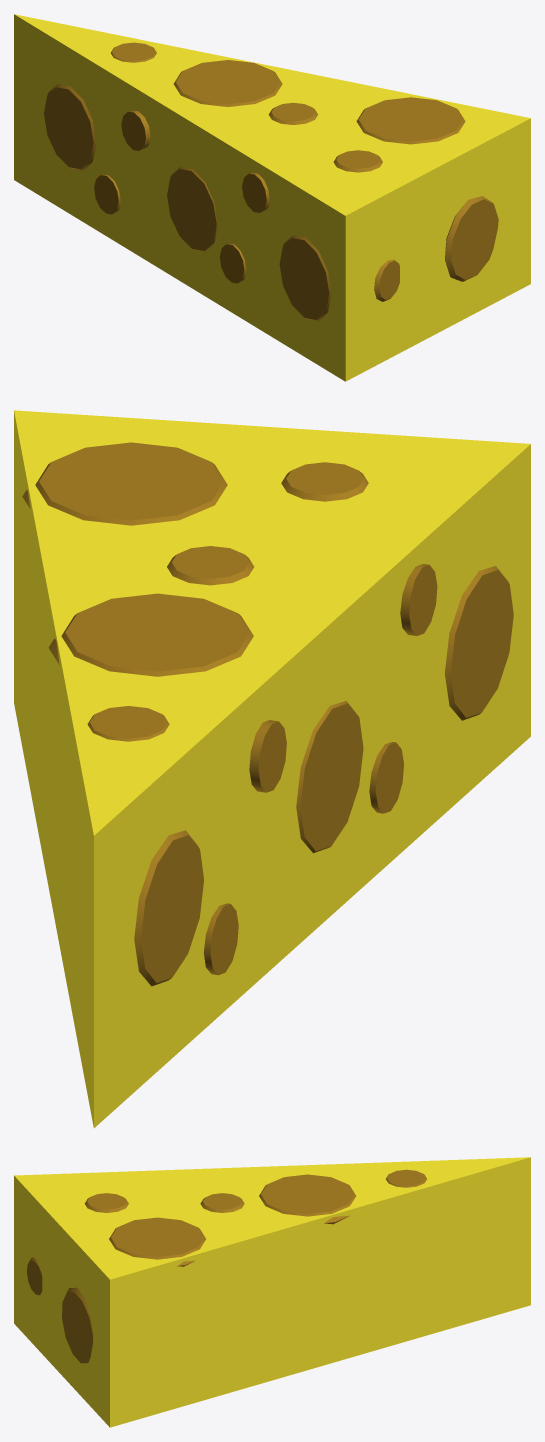
Rendered from cheese.fbx.
3 views of the same model, one above another, from view 1: azimuth 30°, elevation 25°; view 2: azimuth 150°, elevation 25°; view 3: azimuth 270°, elevation 25° (orthographic). The views are drawn at different scales.
Visible parts, largest first — view 1: Prism001, ChamferCyl008, ChamferCyl009, ChamferCyl013, ChamferCyl001, ChamferCyl005, ChamferCyl002, ChamferCyl003, ChamferCyl004, ChamferCyl012, ChamferCyl010, ChamferCyl014 (+3 smaller); view 2: Prism001, ChamferCyl009, ChamferCyl008, ChamferCyl001, ChamferCyl005, ChamferCyl002, ChamferCyl012, ChamferCyl010, ChamferCyl011, ChamferCyl003, ChamferCyl004, ChamferCyl006 (+1 smaller); view 3: Prism001, ChamferCyl009, ChamferCyl008, ChamferCyl013, ChamferCyl010, ChamferCyl012, ChamferCyl011, ChamferCyl014.
Part boxes in pixels (x1,y1,x2,y2): Prism001: (14,14,530,381); ChamferCyl008: (356,97,465,144); ChamferCyl009: (173,60,282,106); ChamferCyl013: (445,196,498,281); ChamferCyl001: (44,84,96,170); ChamferCyl005: (279,235,331,320); ChamferCyl002: (167,167,217,251); ChamferCyl003: (121,110,150,150); ChamferCyl004: (242,172,269,212); ChamferCyl012: (333,150,382,172); ChamferCyl010: (268,102,318,124); ChamferCyl014: (374,259,399,301); Prism001: (14,410,530,1127); ChamferCyl009: (48,593,253,676); ChamferCyl008: (22,442,227,525); ChamferCyl001: (134,830,203,986); ChamferCyl005: (445,566,513,720); ChamferCyl002: (296,701,363,853); ChamferCyl012: (281,462,368,501); ChamferCyl010: (167,546,254,585); ChamferCyl011: (87,706,169,741); ChamferCyl003: (249,720,286,792); ChamferCyl004: (400,564,437,635); ChamferCyl006: (203,903,238,975); Prism001: (14,1157,530,1427); ChamferCyl009: (259,1174,355,1224); ChamferCyl008: (109,1217,205,1266); ChamferCyl013: (62,1287,93,1363); ChamferCyl010: (200,1193,244,1212); ChamferCyl012: (84,1193,128,1212); ChamferCyl011: (386,1169,426,1187); ChamferCyl014: (27,1257,42,1295).
Size of the model in its own units: 10.36 by 5.93 by 18.48.
